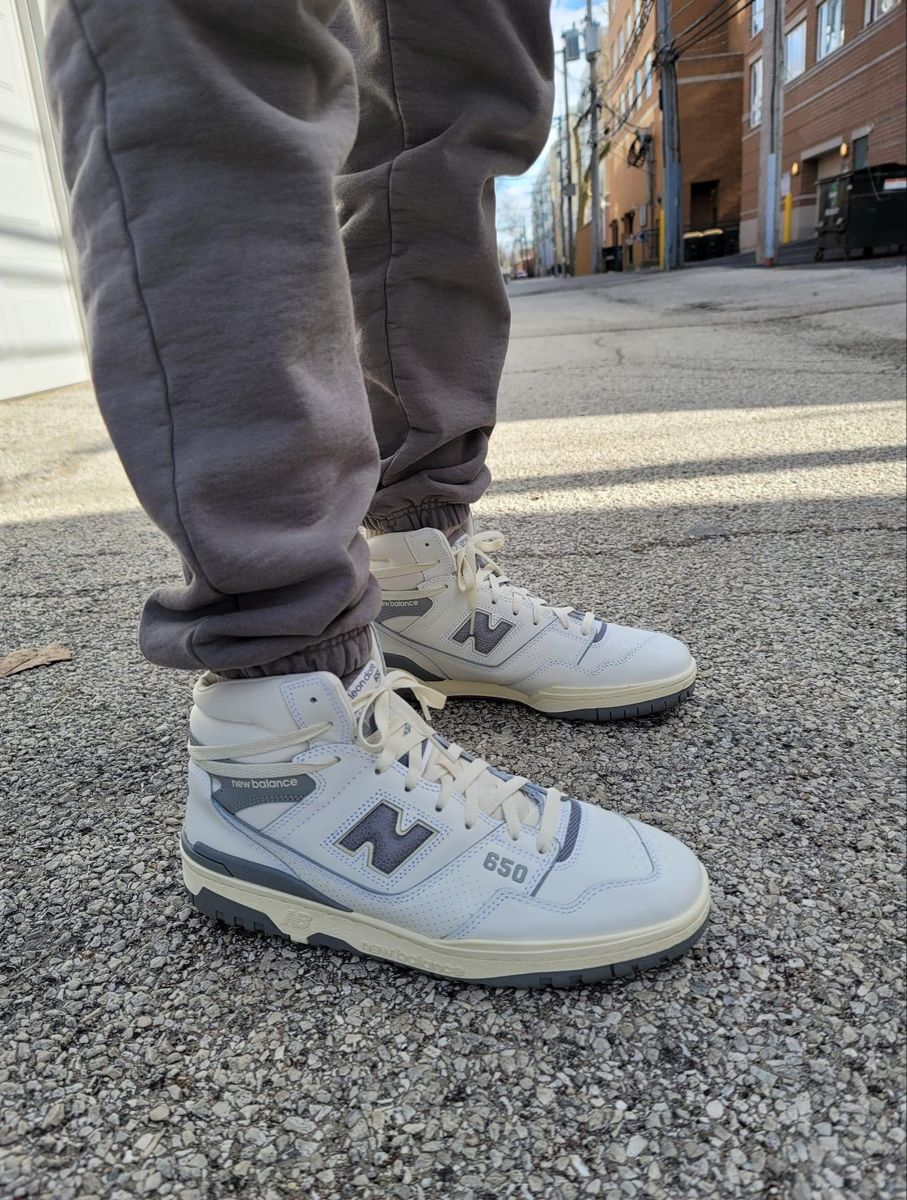new_balance_550_grey: (177, 670, 712, 989), (356, 528, 702, 722)
